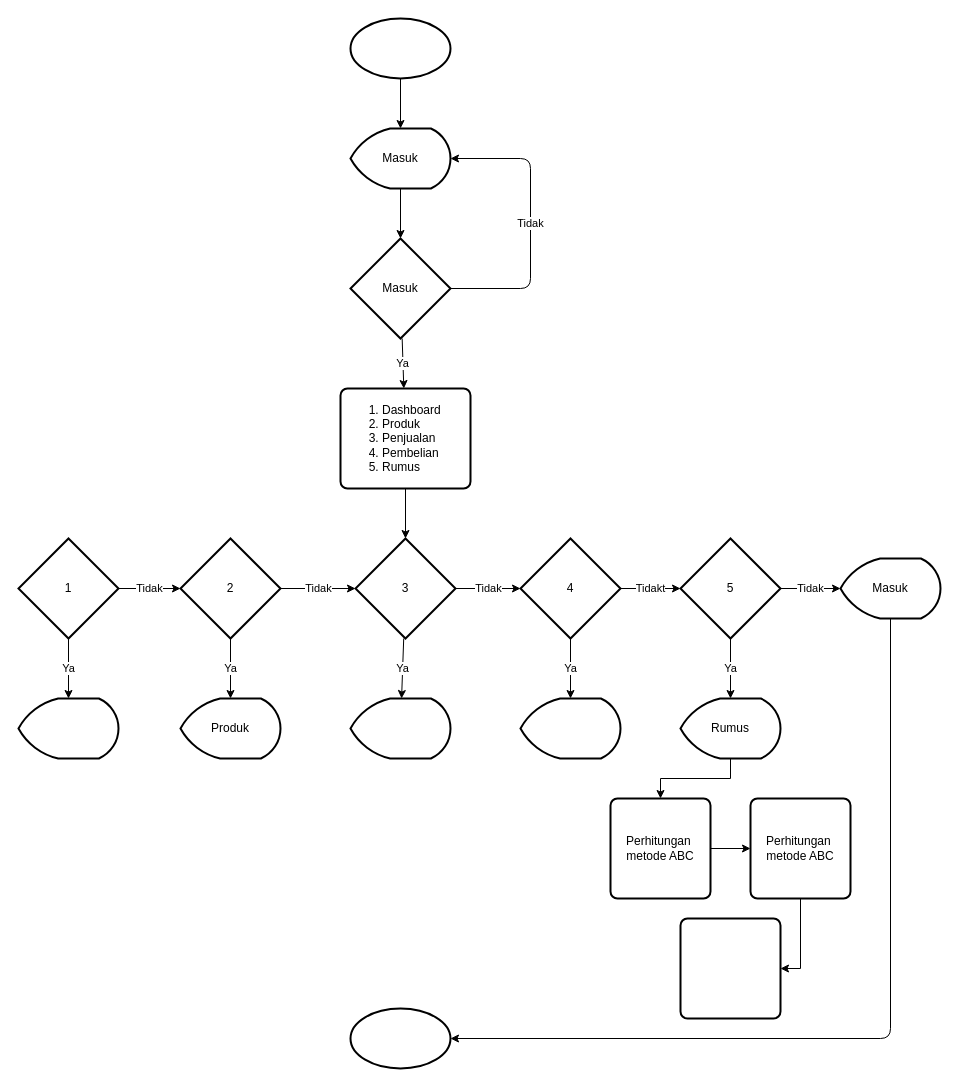
Image size: 958x1086. Some labels were removed from this diagram. Here are the shapes that lost their labels. From the top down, the box of each, then its label:
(349, 17, 451, 79): Mulai
(17, 697, 119, 759): Dashboard
(349, 697, 451, 759): Penjualan
(519, 697, 621, 759): Pembelian
(679, 917, 781, 1019): Hasil Perediksi
(349, 1007, 451, 1069): Selesai
